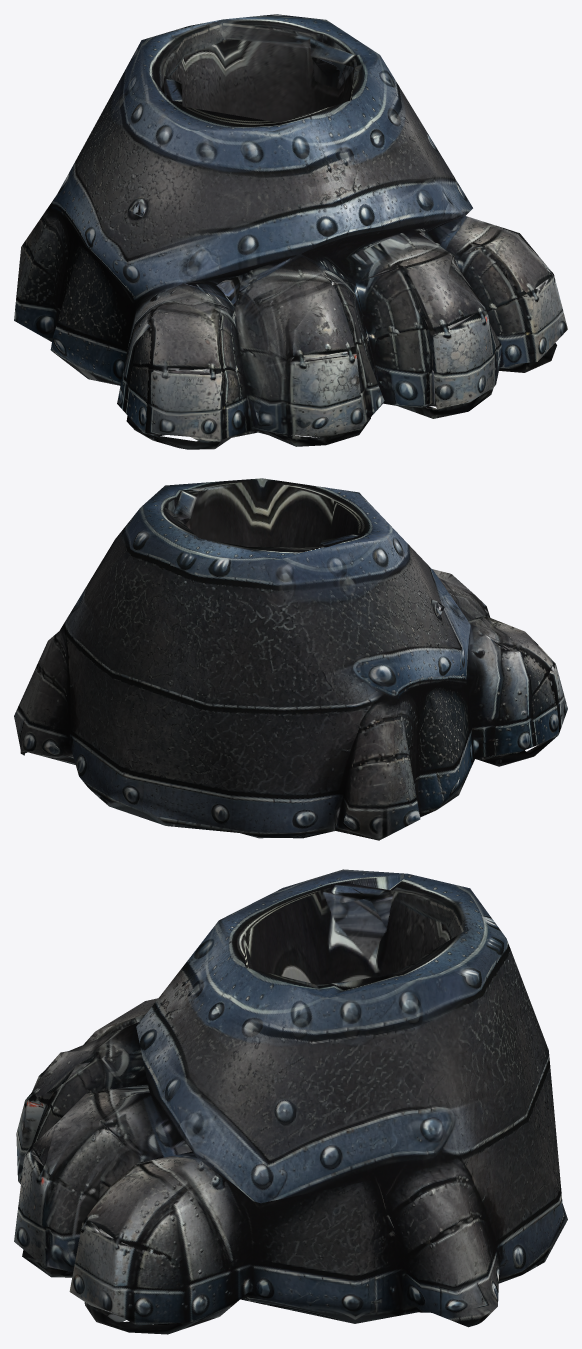
The model's file is Foot.fbx.
The picture shows the model from 3 angles, top to bottom: view 1: azimuth 30°, elevation 25°; view 2: azimuth 150°, elevation 25°; view 3: azimuth 270°, elevation 25°; orthographic projection. The views are drawn at different scales.
Visible parts, largest first — view 1: texture_mapping; view 2: texture_mapping; view 3: texture_mapping.
Part boxes in pixels (x1=…): texture_mapping: x1=14, y1=14, x2=567, y2=449; texture_mapping: x1=14, y1=478, x2=567, y2=840; texture_mapping: x1=14, y1=869, x2=567, y2=1334.
Bounding box in the file's own units: 0.9282 × 0.937 × 0.5624.
1 material, 1 textured.
